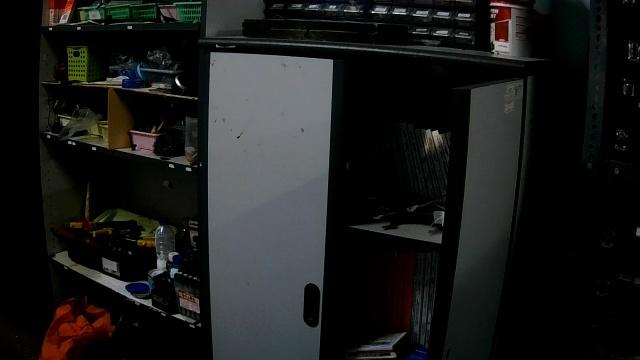Lemari: (200, 37, 532, 359)
Rak: (37, 0, 208, 359)
